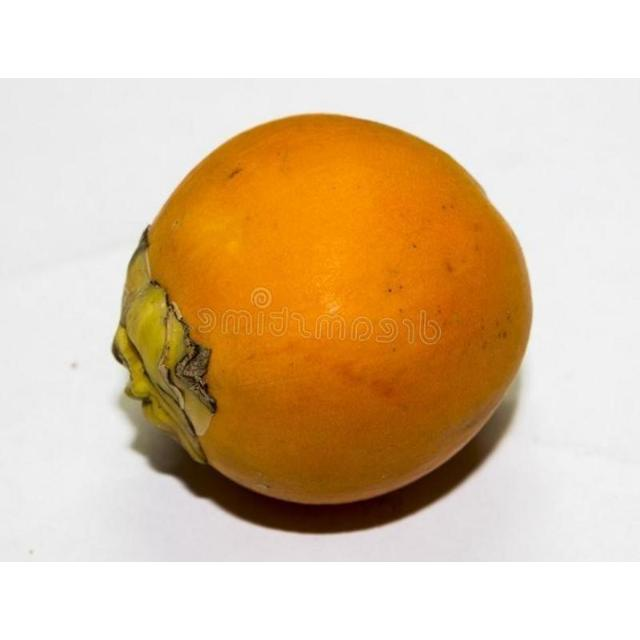good: (111, 113, 534, 508)
